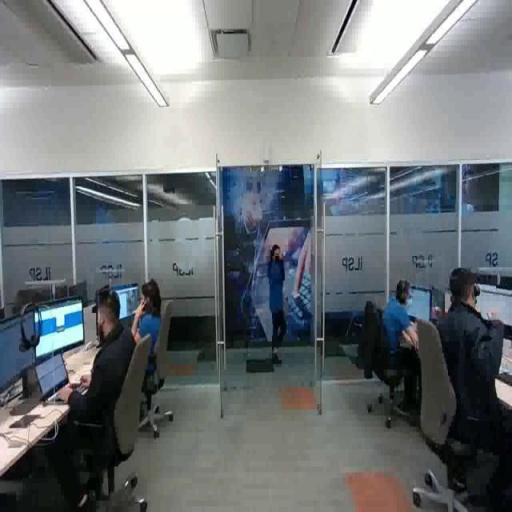person: (438, 266, 512, 505), (57, 287, 136, 509), (376, 278, 432, 422), (131, 279, 180, 397), (264, 244, 292, 368)
